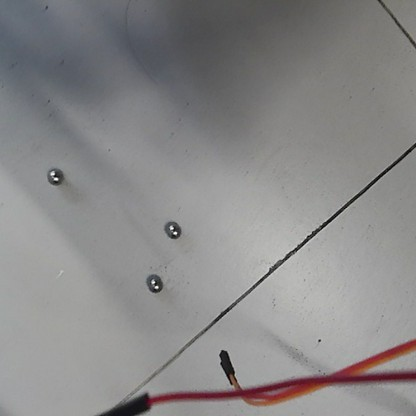ironball: (160, 216, 184, 241), (44, 165, 64, 188), (147, 272, 165, 294)
